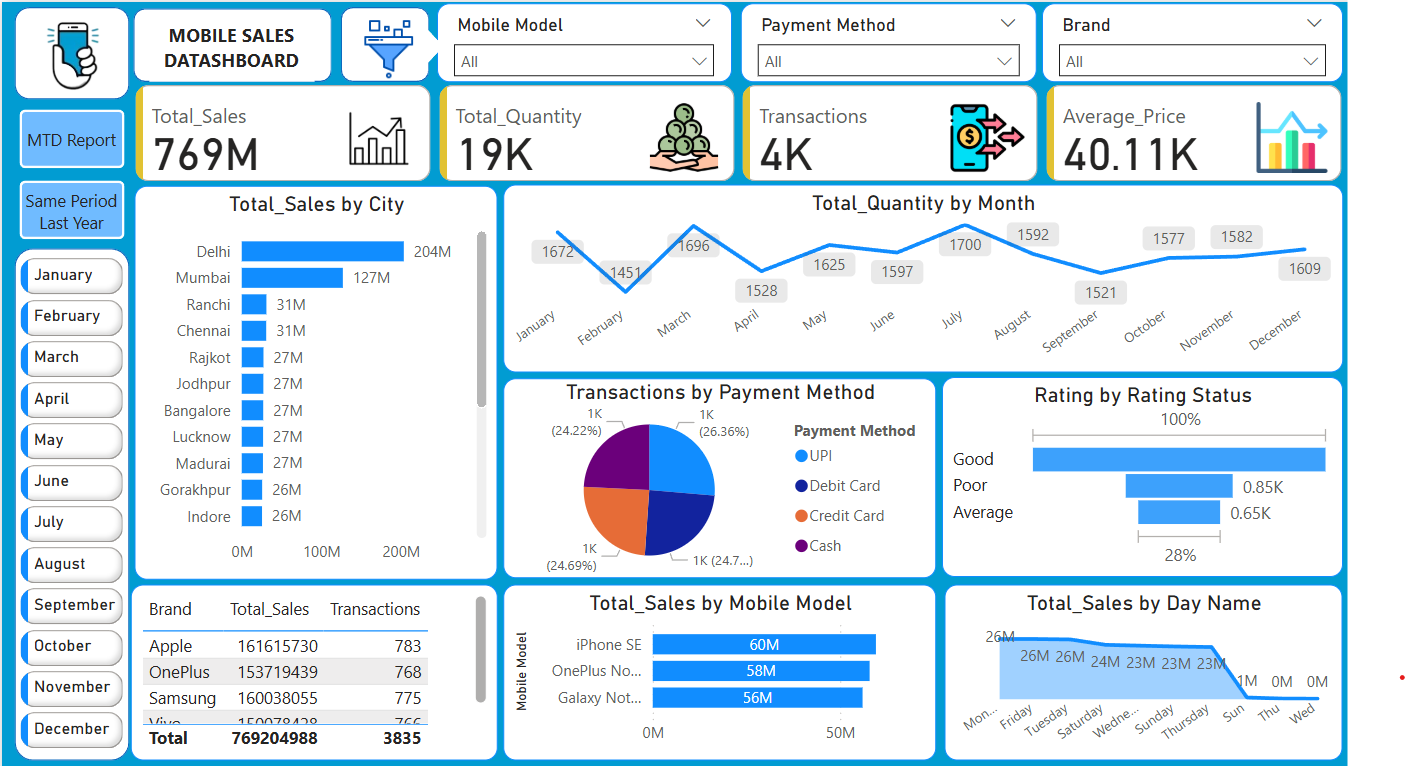

What the dashboard file says about the page in this screenshot:
{"tool":"powerbi","page":{"name":" Dashboard","canvas":[1280,1000],"ordinal":0},"visuals":[{"type":"shape","box":[10,4,92,74],"z":0},{"type":"image","box":[18,9,76,67],"z":1000},{"type":"shape","box":[10,197,92,410],"z":3000},{"type":"advancedSlicerVisual","fields":{"Values":["Custom_Calender.Date.Variation.Date Hierarchy.Month"]},"box":[10,200,92,403],"z":4000},{"type":"cardVisual","fields":{"Data":["Sales_Data.Total_Sales","Sales_Data.Total_Quantity","Sales_Data.Transactions","Sales_Data.Average_Price"]},"box":[102.3,63.8,976.2,81.5],"z":5000},{"type":"slicer","fields":{"Values":["Sales_Data.Mobile Model"]},"box":[348,1,236,63],"z":6000},{"type":"slicer","fields":{"Values":["Sales_Data.Brand"]},"box":[832.3,0.8,240.8,63.1],"z":7000},{"type":"slicer","fields":{"Values":["Sales_Data.Payment Method"]},"box":[591,1,237,63],"z":8000},{"type":"shape","box":[271,4,71,60],"z":9000},{"type":"shape","box":[315,15,38,41],"z":10000},{"type":"image","box":[271,9,77,58],"z":11000},{"type":"shape","box":[105,5,159,59],"z":12000},{"type":"textbox","box":[118,11,132,53],"z":13000},{"type":"clusteredBarChart","fields":{"Category":["Sales_Data.City"],"Y":["Sales_Data.Total_Sales"]},"box":[106,147,291,315],"z":14000},{"type":"lineChart","fields":{"Category":["Custom_Calender.Date.Variation.Date Hierarchy.Month"],"Y":["Sales_Data.Total_Quantity"]},"box":[401,146,672,150],"z":15000},{"type":"funnel","title":"Rating by Rating Status","fields":{"Y":["CountNonNull(Sales_Data.Customer Ratings)"],"Category":["Sales_Data.Rating_Status"]},"box":[752,300,321,160],"z":16000},{"type":"pieChart","fields":{"Y":["Sales_Data.Transactions"],"Category":["Sales_Data.Payment Method"]},"box":[401,301,347,160],"z":17000},{"type":"clusteredBarChart","fields":{"Y":["Sales_Data.Total_Sales"],"Category":["Sales_Data.Mobile Model"]},"box":[401,466,347,141],"z":18000},{"type":"areaChart","fields":{"Category":["Sales_Data.Day Name"],"Y":["Sales_Data.Total_Sales"]},"box":[754,466,319,141],"z":19000},{"type":"tableEx","fields":{"Values":["Sales_Data.Brand","Sales_Data.Total_Sales","Sales_Data.Transactions"]},"box":[103,466,294,141],"z":20000},{"type":"pageNavigator","box":[13.9,85.7,84.3,103.9],"z":21000}]}

Visuals, with their boxes on the page's 1280x1000 design canvas (x1, y1, x2, y2). These are canvas units, not pixel positions in the 1406x766 screenshot, which may show the page scaled, cropped or inside an application window:
shape: x1=10 y1=4 x2=102 y2=78
image: x1=18 y1=9 x2=94 y2=76
shape: x1=10 y1=197 x2=102 y2=607
advancedSlicerVisual - Custom_Calender.Date.Variation.Date Hierarchy.Month: x1=10 y1=200 x2=102 y2=603
cardVisual - Sales_Data.Total_Sales x Sales_Data.Total_Quantity: x1=102 y1=64 x2=1078 y2=145
slicer - Sales_Data.Mobile Model: x1=348 y1=1 x2=584 y2=64
slicer - Sales_Data.Brand: x1=832 y1=1 x2=1073 y2=64
slicer - Sales_Data.Payment Method: x1=591 y1=1 x2=828 y2=64
shape: x1=271 y1=4 x2=342 y2=64
shape: x1=315 y1=15 x2=353 y2=56
image: x1=271 y1=9 x2=348 y2=67
shape: x1=105 y1=5 x2=264 y2=64
textbox: x1=118 y1=11 x2=250 y2=64
clusteredBarChart - Sales_Data.City x Sales_Data.Total_Sales: x1=106 y1=147 x2=397 y2=462
lineChart - Custom_Calender.Date.Variation.Date Hierarchy.Month x Sales_Data.Total_Quantity: x1=401 y1=146 x2=1073 y2=296
"Rating by Rating Status" funnel: x1=752 y1=300 x2=1073 y2=460
pieChart - Sales_Data.Transactions x Sales_Data.Payment Method: x1=401 y1=301 x2=748 y2=461
clusteredBarChart - Sales_Data.Total_Sales x Sales_Data.Mobile Model: x1=401 y1=466 x2=748 y2=607
areaChart - Sales_Data.Day Name x Sales_Data.Total_Sales: x1=754 y1=466 x2=1073 y2=607
tableEx - Sales_Data.Brand x Sales_Data.Total_Sales: x1=103 y1=466 x2=397 y2=607
pageNavigator: x1=14 y1=86 x2=98 y2=190
